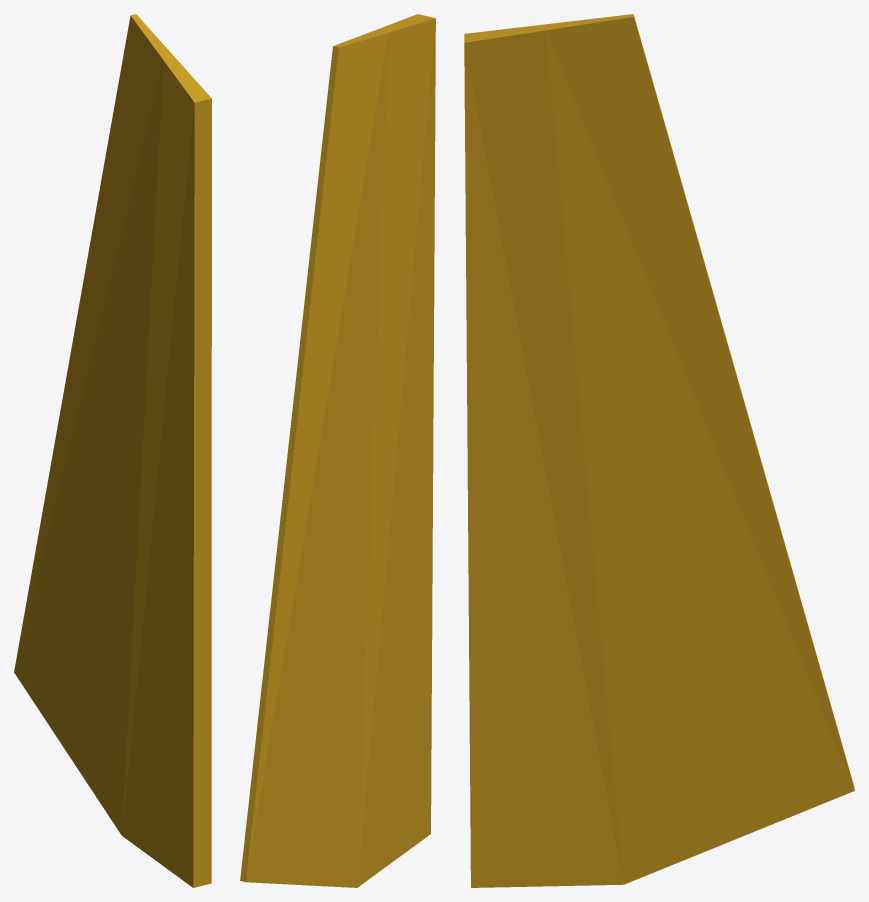
Rendered from rutter.dae.
3 views of the same model, side by side, from view 1: azimuth 30°, elevation 25°; view 2: azimuth 150°, elevation 25°; view 3: azimuth 270°, elevation 25° (orthographic). The views are drawn at different scales.
Visible parts, largest first — view 1: Cube; view 2: Cube; view 3: Cube.
Boxes of the visible parts, box(x1,y1,x2,y2) form: Cube: box(14, 14, 211, 887); Cube: box(240, 14, 435, 887); Cube: box(464, 14, 854, 887).
Bounding box in the file's own units: 0.1605 × 2.46 × 6.06.
